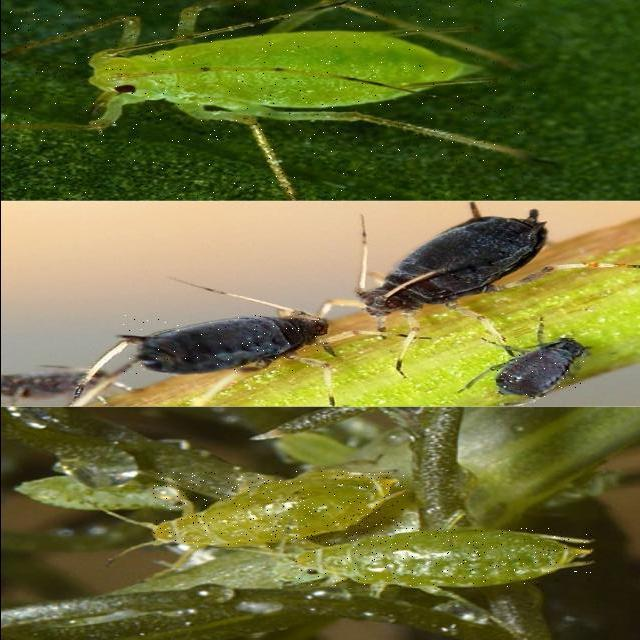aphid: (0, 0, 533, 199), (358, 212, 544, 315), (152, 471, 404, 547), (295, 528, 590, 587), (121, 315, 326, 373), (496, 339, 585, 397)
